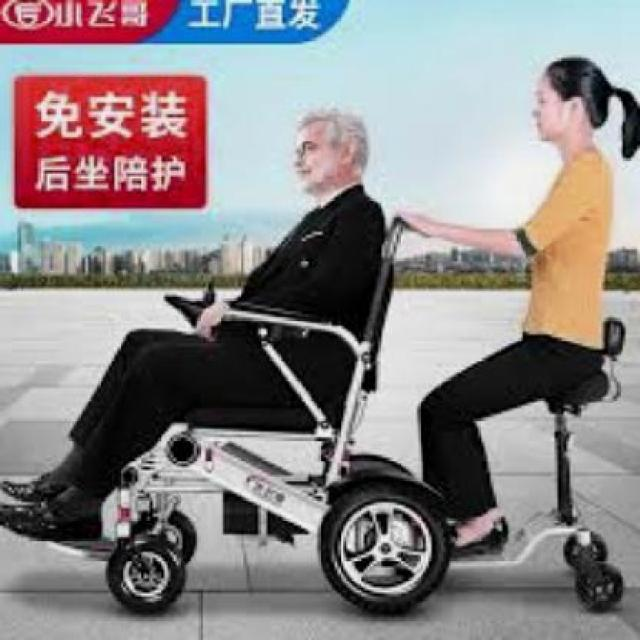wheelchairs: (106, 210, 476, 619)
